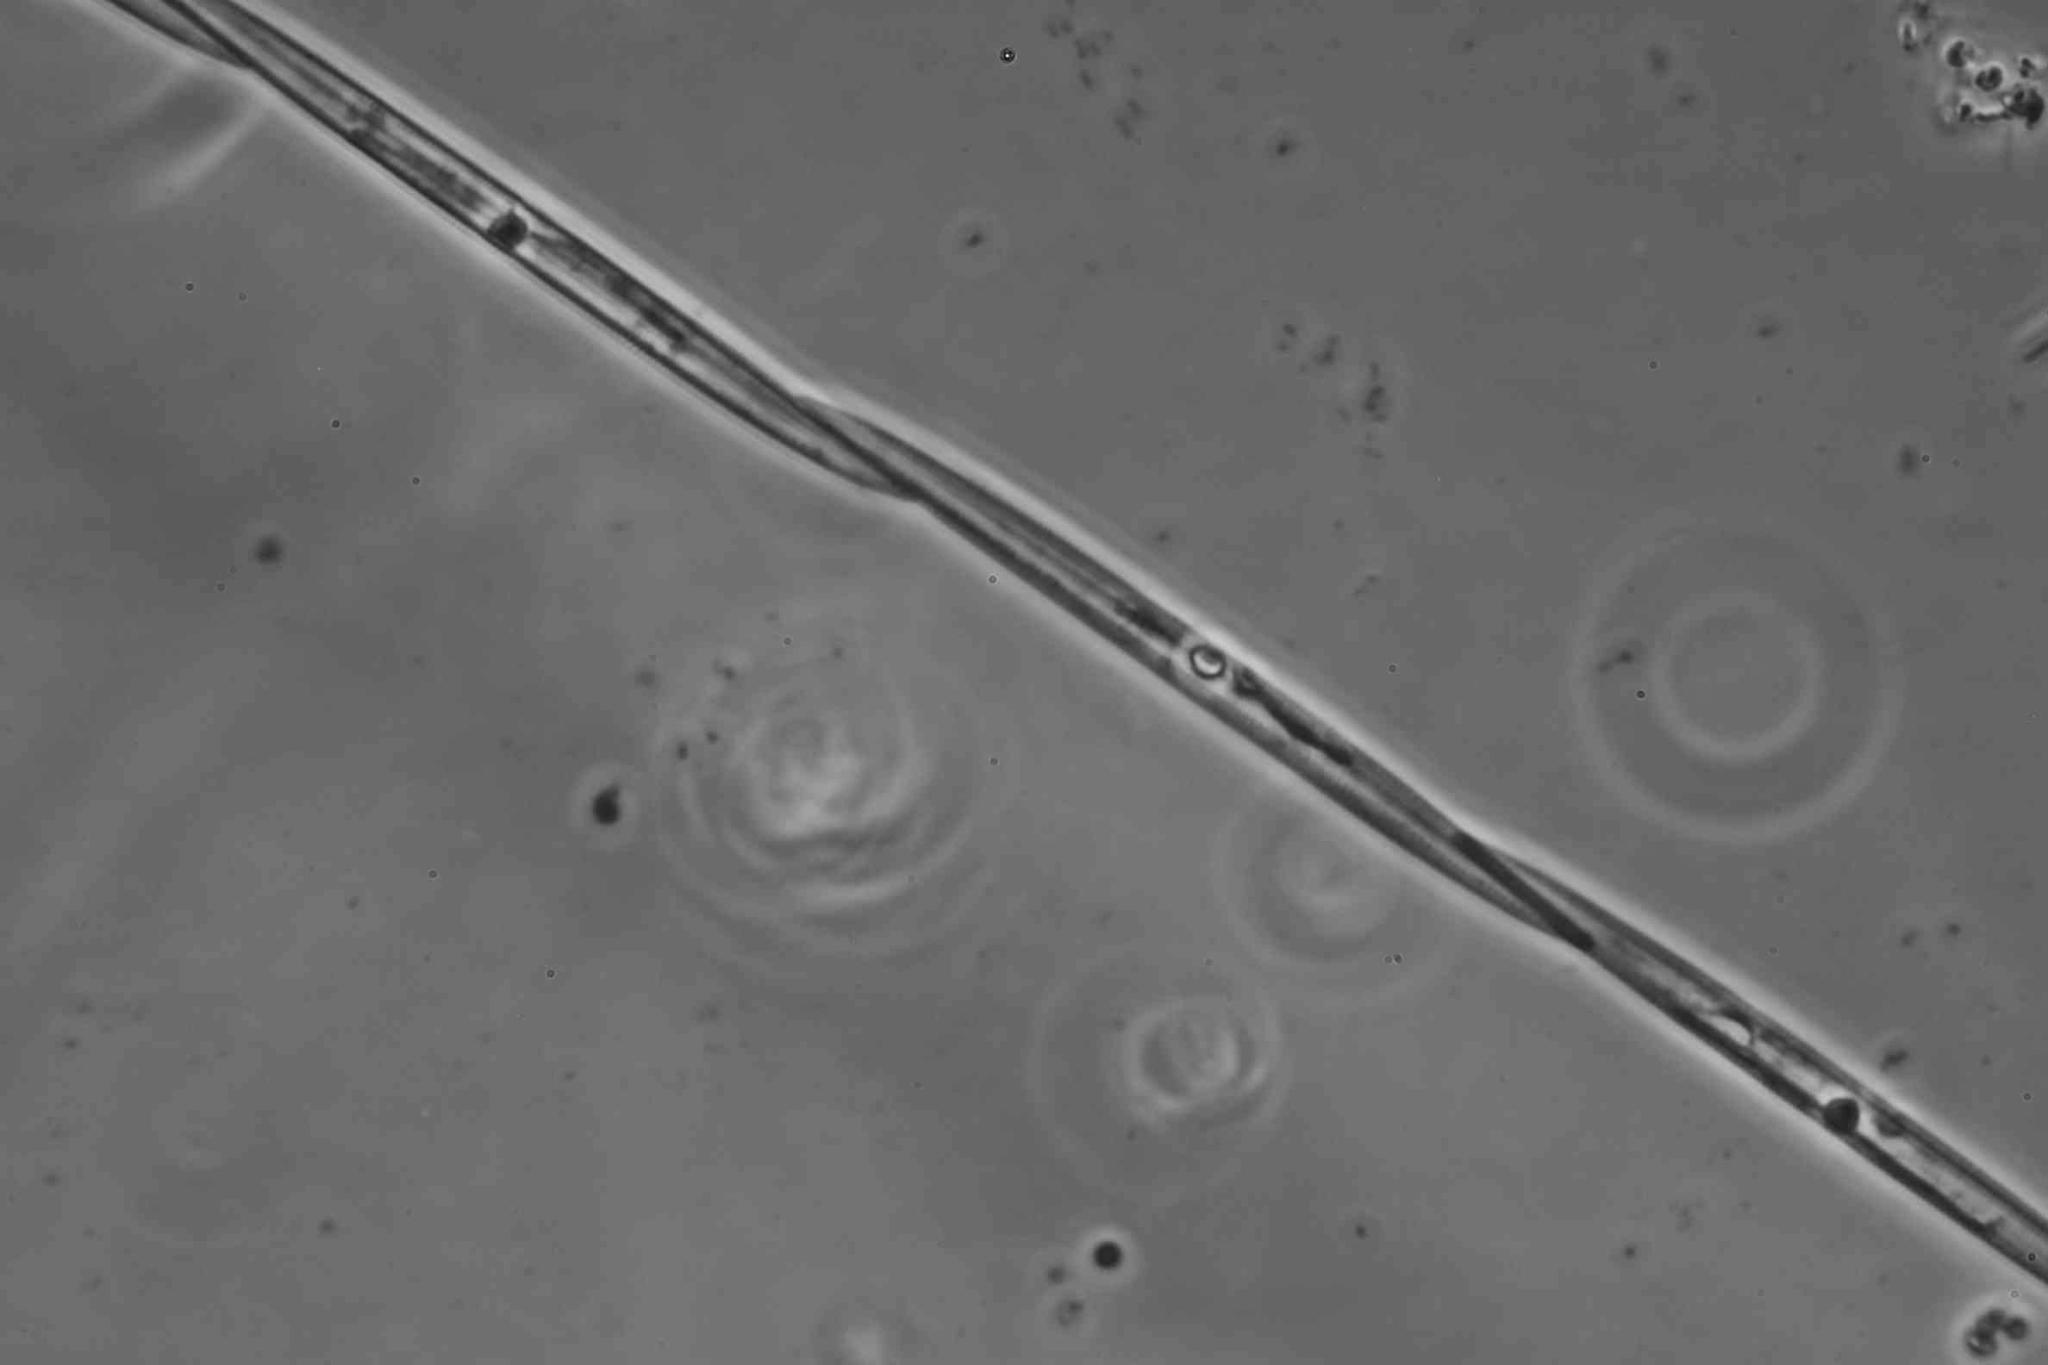pseudo_nitzschia: (113, 0, 2046, 1284)
